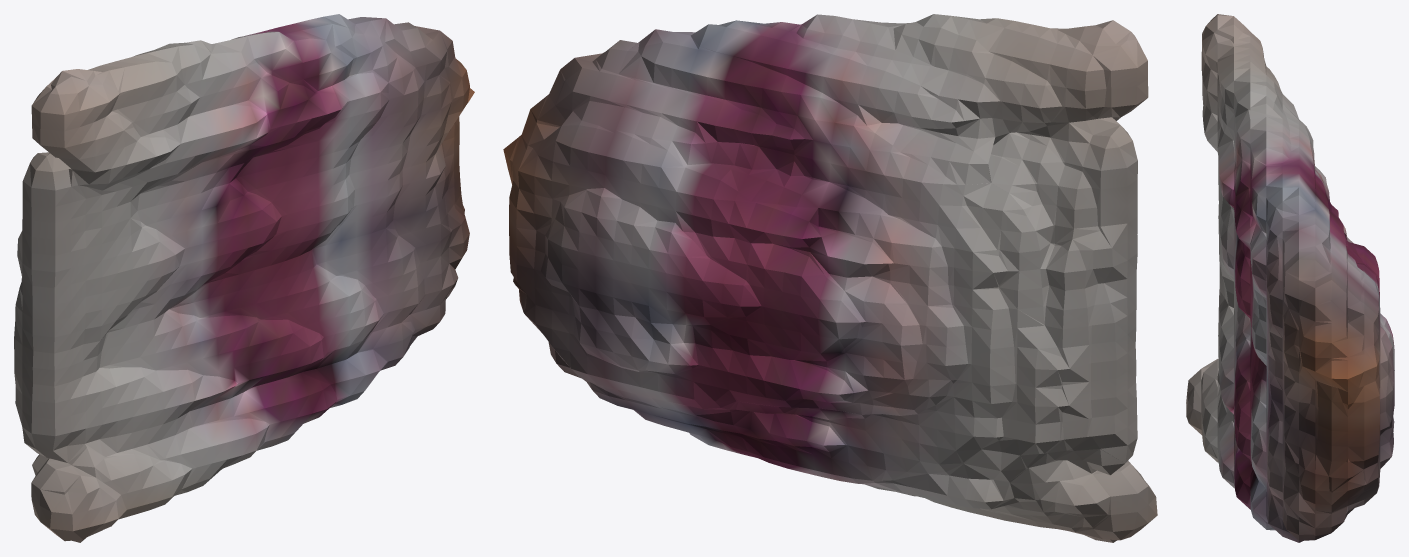
The model's file is producto-037.glb.
3 views of the same model, side by side, from view 1: azimuth 30°, elevation 25°; view 2: azimuth 150°, elevation 25°; view 3: azimuth 270°, elevation 25° (orthographic). The views are drawn at different scales.
Visible parts, largest first — view 1: world; view 2: world; view 3: world.
Boxes of the visible parts, left/top/right/bottom form: world: left=14, top=14, right=474, bottom=542; world: left=503, top=14, right=1157, bottom=542; world: left=1186, top=14, right=1394, bottom=542.
Size of the model in its own units: 0.8801 by 0.7826 by 0.3539.
